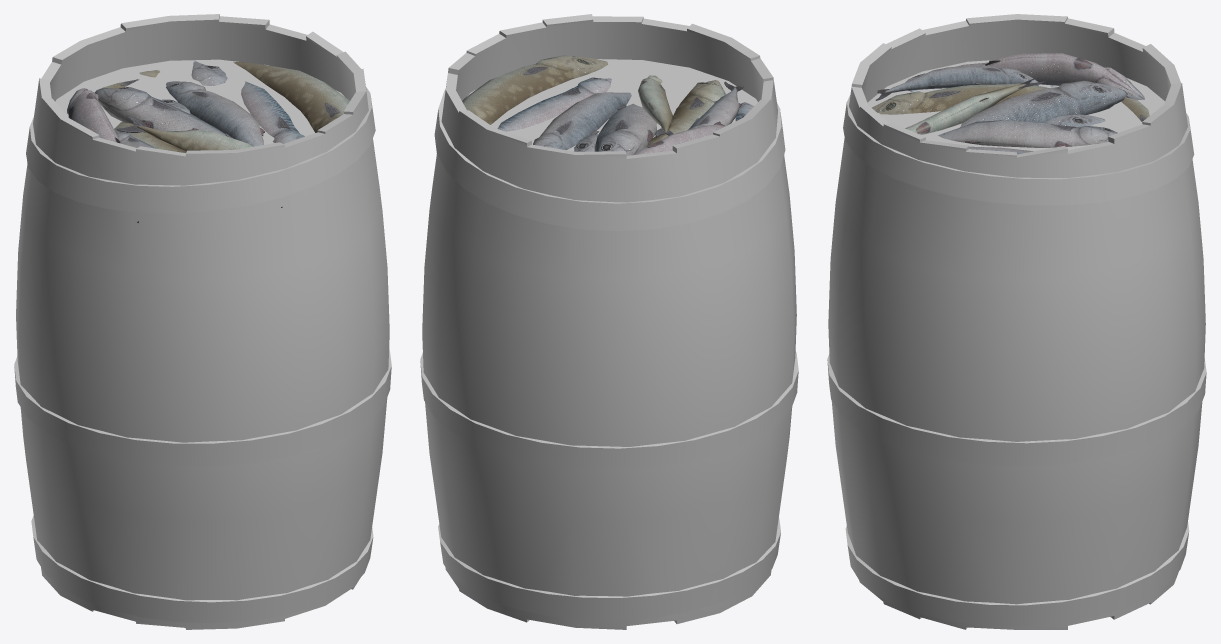
Rendered from SM_Barrel_3_01.fbx.
3 views of the same model, side by side, from view 1: azimuth 30°, elevation 25°; view 2: azimuth 150°, elevation 25°; view 3: azimuth 270°, elevation 25° (orthographic).
Visible parts, largest first — view 1: SM_Barrel_3_01_LOD0; view 2: SM_Barrel_3_01_LOD0; view 3: SM_Barrel_3_01_LOD0.
Boxes of the visible parts, left/top/right/bottom form: SM_Barrel_3_01_LOD0: left=14, top=14, right=391, bottom=629; SM_Barrel_3_01_LOD0: left=420, top=14, right=798, bottom=629; SM_Barrel_3_01_LOD0: left=827, top=14, right=1206, bottom=629.
Bounding box in the file's own units: 64.32 × 64.32 × 90.08.
